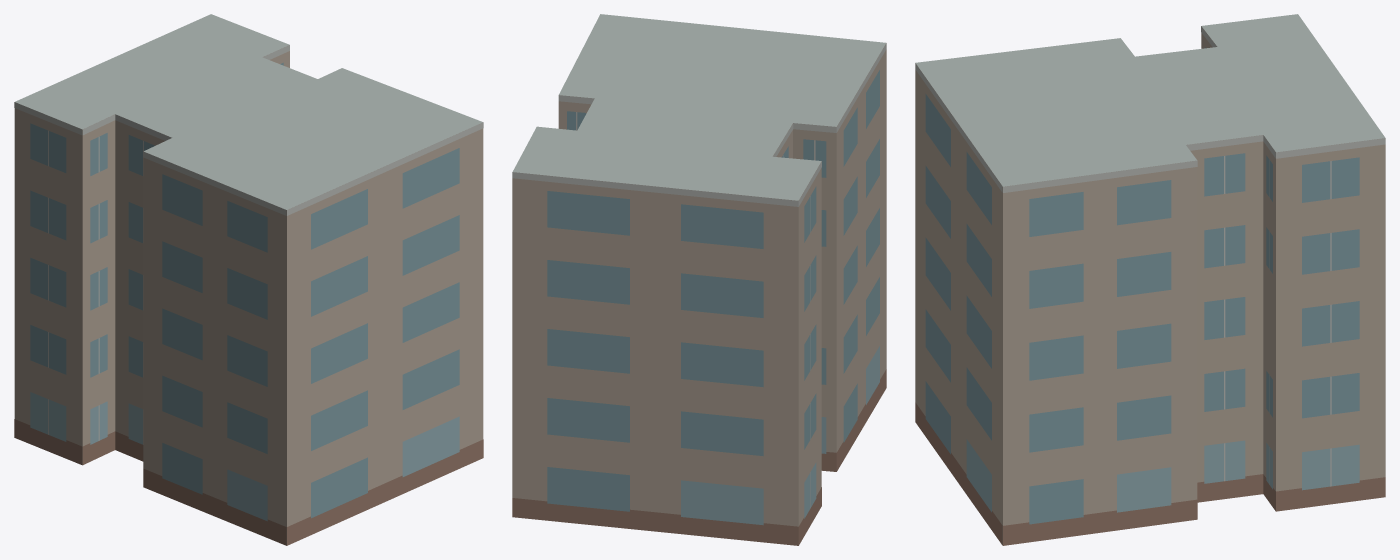
The model's file is survey-upis-32850740.glb.
3 views of the same model, side by side, from view 1: azimuth 30°, elevation 25°; view 2: azimuth 150°, elevation 25°; view 3: azimuth 270°, elevation 25° (orthographic). The views are drawn at different scales.
Parts seen in each view (by area): view 1: survey-upis-32850740.tmp; view 2: survey-upis-32850740.tmp; view 3: survey-upis-32850740.tmp.
Part boxes in pixels (x1,y1,x2,y2): survey-upis-32850740.tmp: [14, 14, 483, 545]; survey-upis-32850740.tmp: [512, 14, 886, 545]; survey-upis-32850740.tmp: [915, 14, 1385, 545].
Bounding box in the file's own units: 14.04 × 13.6 × 16.15.
